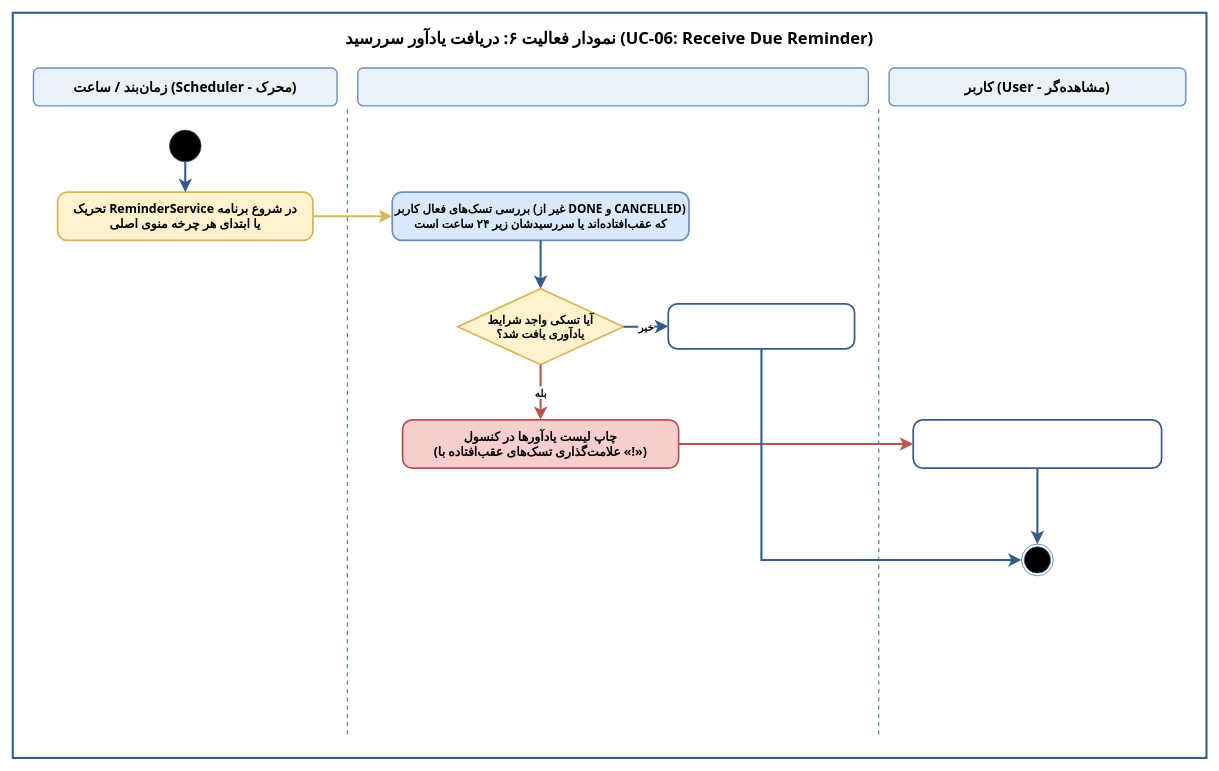
The diagram is 1219 pixels wide and 771 high, and some of its shapes have lost their labels. The shapes that lost their labels are listed below. From the top down, each one's centre as x and y in pixels, then its label:
(x=613, y=86): سامانه (ReminderService & ConsoleUI)
(x=761, y=326): عدم چاپ خروجی (2a: Nothing is printed)
(x=1037, y=444): مشاهده لیست یادآورها و تسک‌های فوری
